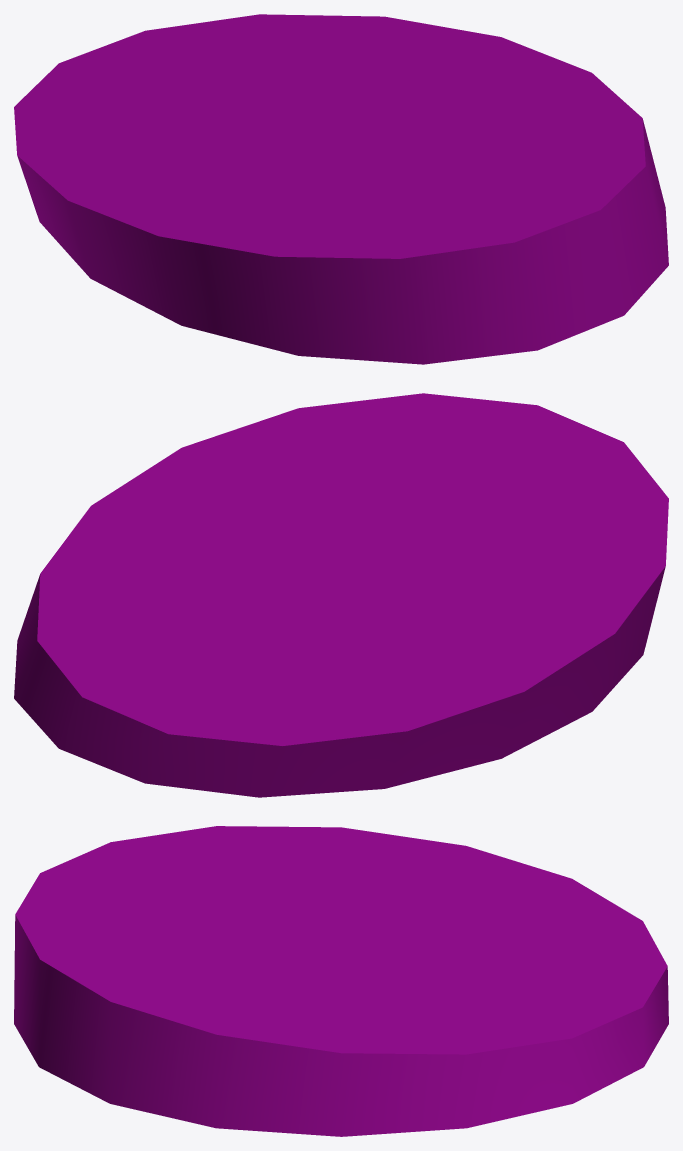
The model's file is Veg1.FBX.
3 renders of one model, top to bottom at view 1: azimuth 30°, elevation 25°; view 2: azimuth 150°, elevation 25°; view 3: azimuth 270°, elevation 25°, orthographic. The views are drawn at different scales.
Parts seen in each view (by area): view 1: Veg_1; view 2: Veg_1; view 3: Veg_1.
Part boxes in pixels (x1,y1,x2,y2): Veg_1: [14, 14, 668, 364]; Veg_1: [14, 393, 668, 797]; Veg_1: [14, 826, 668, 1136].
Bounding box in the file's own units: 10.05 × 1.98 × 11.81.
